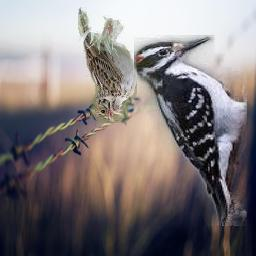Sparrow: (79, 7, 138, 123)
Woodpecker: (135, 36, 248, 227)
